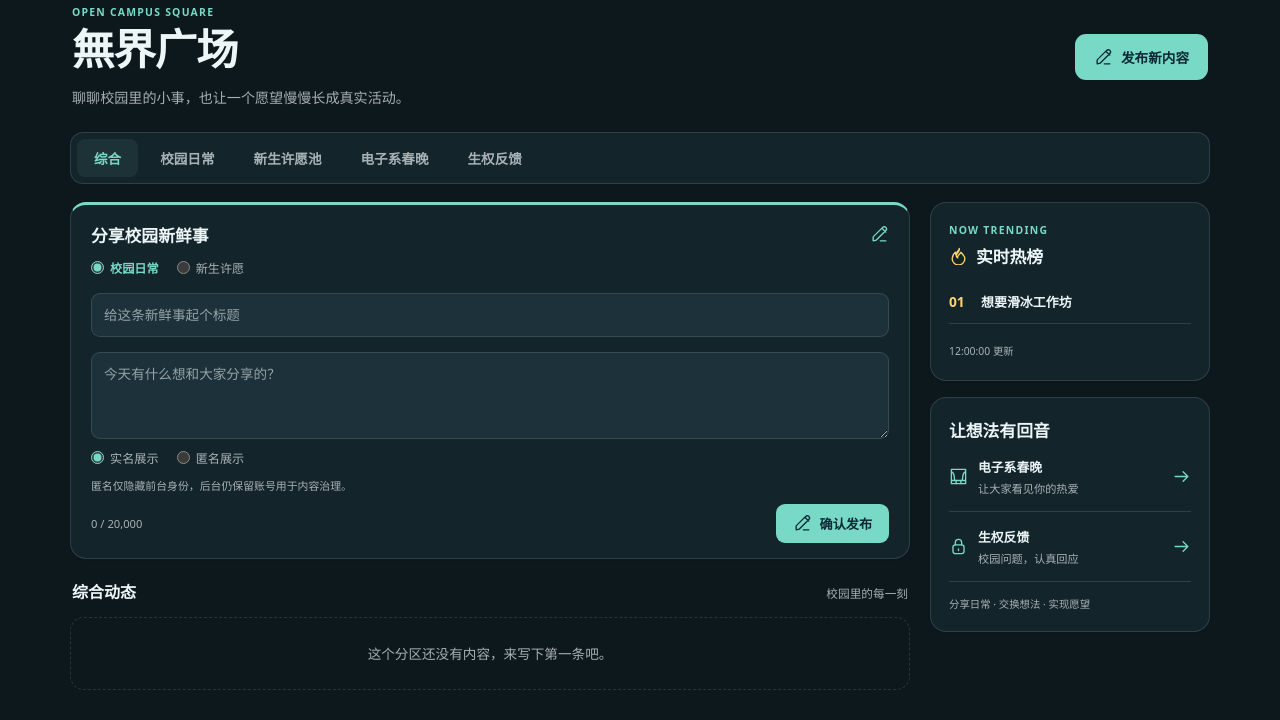
Test: CommunityPage › publishes from the inline composer and clears its fields only after success
In the field labelled "标题": [490, 315] box top-left (91, 293), bottom-right (889, 337), type "午后操场"
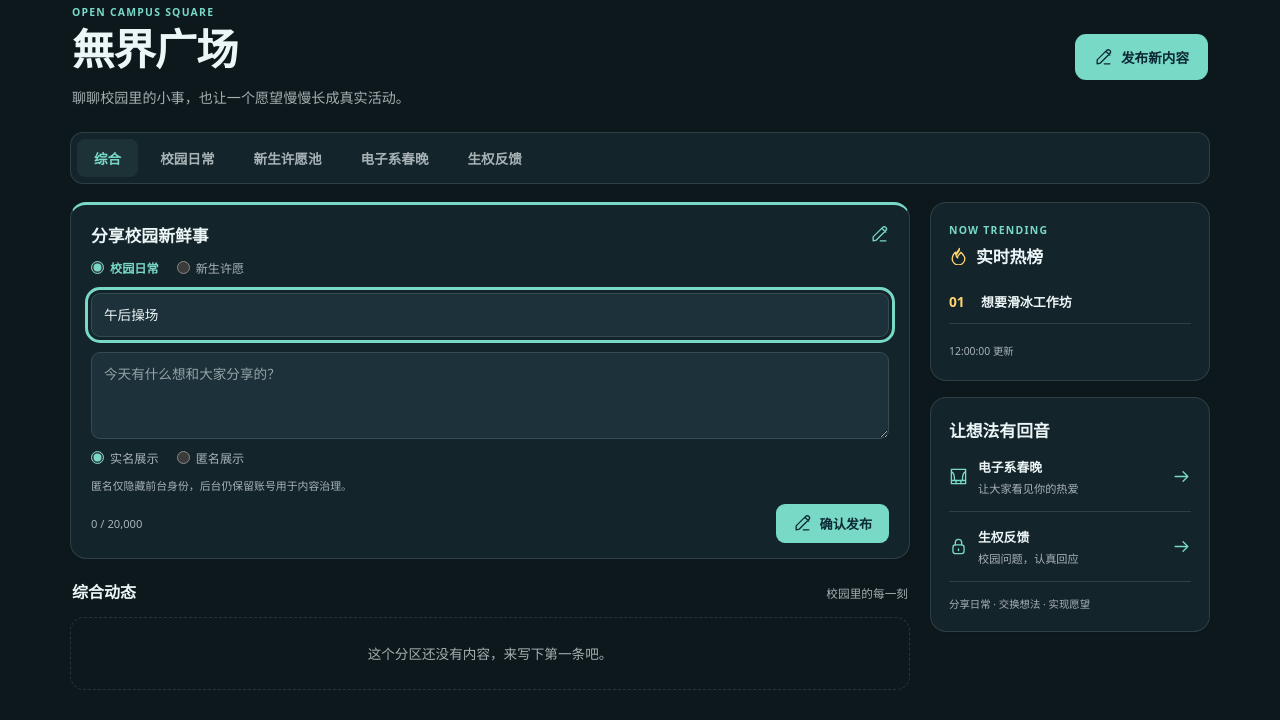
In the text box labelled "内容": [490, 395] box top-left (91, 352), bottom-right (889, 439), type "今天的夕阳很美。"
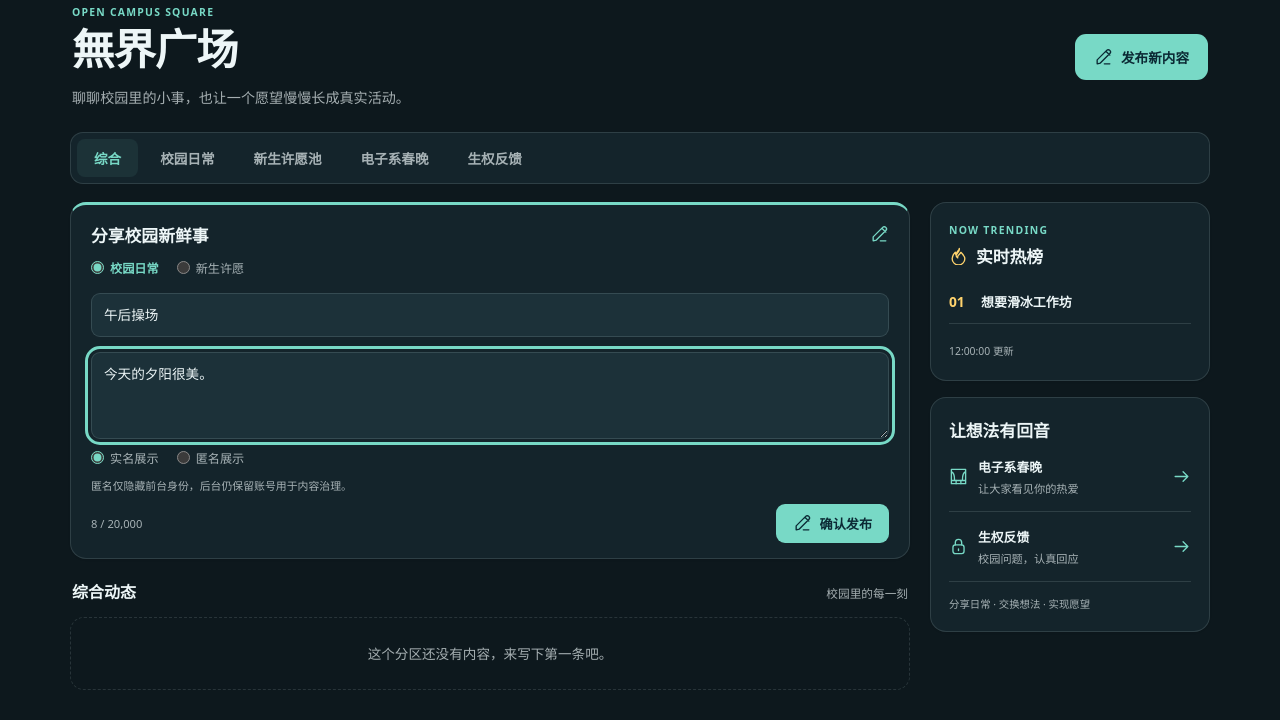
Click the button "确认发布": [832, 524] box top-left (776, 504), bottom-right (889, 543)
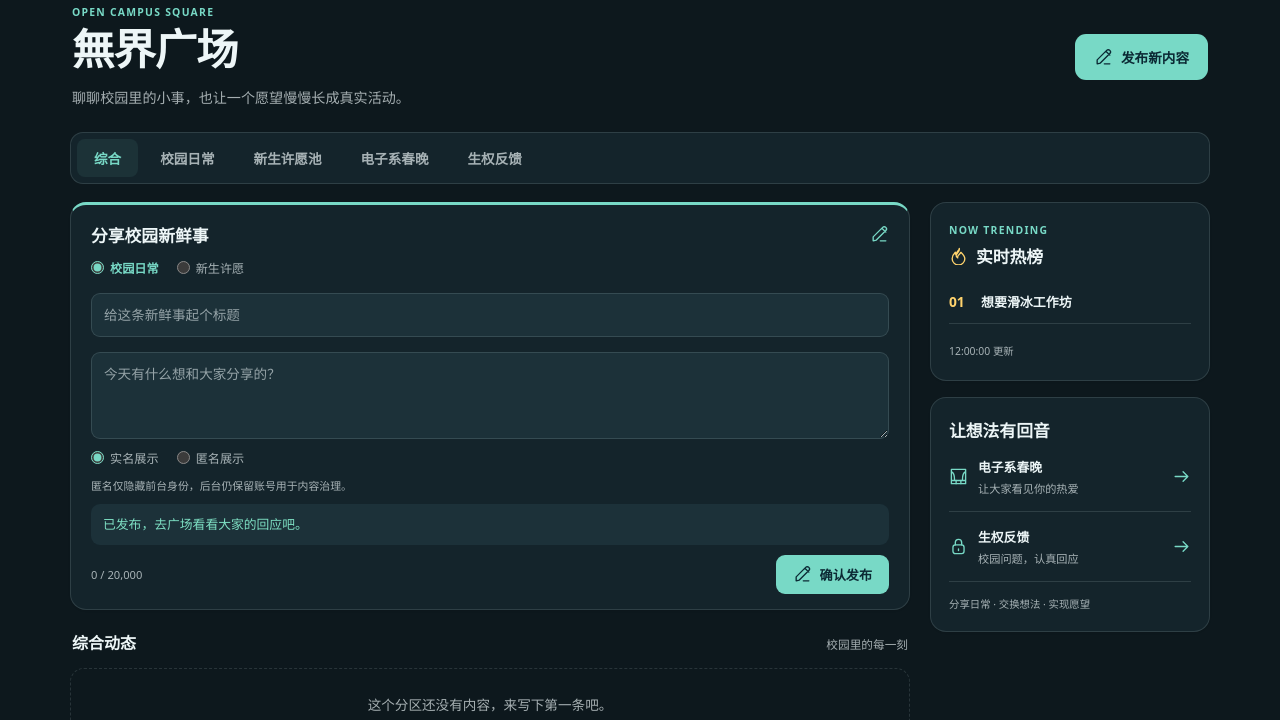
Expected: the text box labelled "内容" is empty, top-left (91, 352), bottom-right (889, 439)
Expected: the message "已发布，去广场看看大家的回应吧。" is shown, top-left (91, 504), bottom-right (889, 545)
